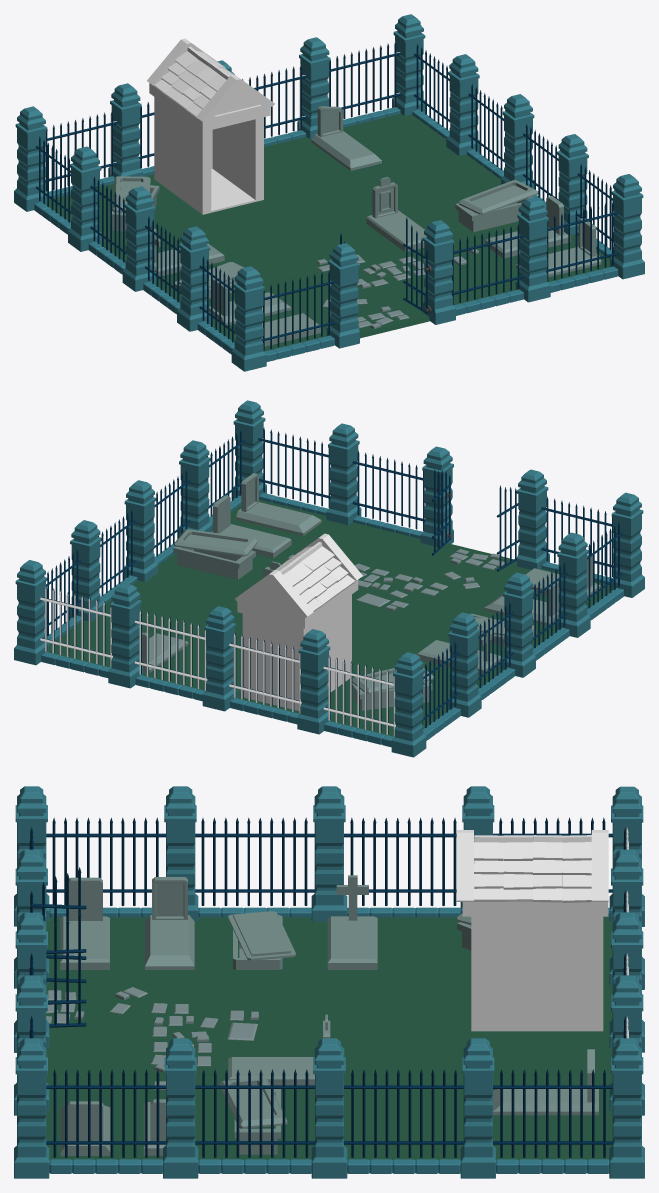
File: bol_graveyard_v1.fbx
3 views of the same model, one above another, from view 1: azimuth 30°, elevation 25°; view 2: azimuth 150°, elevation 25°; view 3: azimuth 270°, elevation 25° (orthographic). The views are drawn at different scales.
Visible parts, largest first — view 1: Plane, Cube, Cube.002, Cube.056, Cube.004, Cube.003, Cylinder.004, Cylinder.002, Cylinder.007, Cylinder.001, Cube.051, Cube.052 (+18 smaller); view 2: Plane, Cube.003, Cube.002, Cube.004, Cube, Cylinder.003, Cube.056, Cylinder.004, Cylinder.002, Cylinder.007, Cylinder.001, Cube.008 (+15 smaller); view 3: Plane, Cube.004, Cube.056, Cylinder.002, Cylinder.004, Cube.002, Cube, Cube.003, Cube.007, Cube.011, Cube.010, Cube.053 (+14 smaller).
Boxes of the visible parts, box(x1,y1,x2,y2) form: Plane: box(45, 113, 609, 351); Cube: box(326, 174, 644, 348); Cube.002: box(68, 146, 266, 371); Cube.056: box(149, 83, 270, 214); Cube.004: box(392, 14, 588, 235); Cube.003: box(14, 37, 330, 211); Cylinder.004: box(35, 136, 236, 342); Cylinder.002: box(413, 44, 615, 249); Cylinder.007: box(45, 42, 401, 191); Cylinder.001: box(451, 201, 618, 304); Cube.051: box(455, 179, 538, 232); Cube.052: box(311, 106, 381, 170); Plane: box(49, 499, 612, 736); Cube.003: box(108, 583, 426, 757); Cube.002: box(448, 492, 644, 717); Cube.004: box(14, 440, 212, 665); Cube: box(233, 400, 549, 569); Cylinder.003: box(40, 587, 395, 736); Cube.056: box(237, 580, 358, 710); Cylinder.004: box(421, 522, 622, 727); Cylinder.002: box(43, 430, 244, 635); Cylinder.007: box(41, 587, 395, 734); Cylinder.001: box(258, 427, 425, 530); Cube.008: box(41, 652, 394, 747); Plane: box(46, 917, 612, 1159); Cube.004: box(163, 1038, 644, 1178); Cube.056: box(462, 896, 608, 1031); Cylinder.002: box(46, 1069, 612, 1157); Cylinder.004: box(46, 817, 612, 905); Cube.002: box(14, 786, 494, 926); Cube: box(14, 849, 49, 1178); Cube.003: box(609, 786, 644, 1115); Cube.007: box(49, 1159, 609, 1173); Cube.011: box(145, 877, 194, 969); Cube.010: box(60, 877, 109, 969); Cube.053: box(327, 875, 377, 969).
Size of the model in its own units: 3565 by 1252 by 3561.
